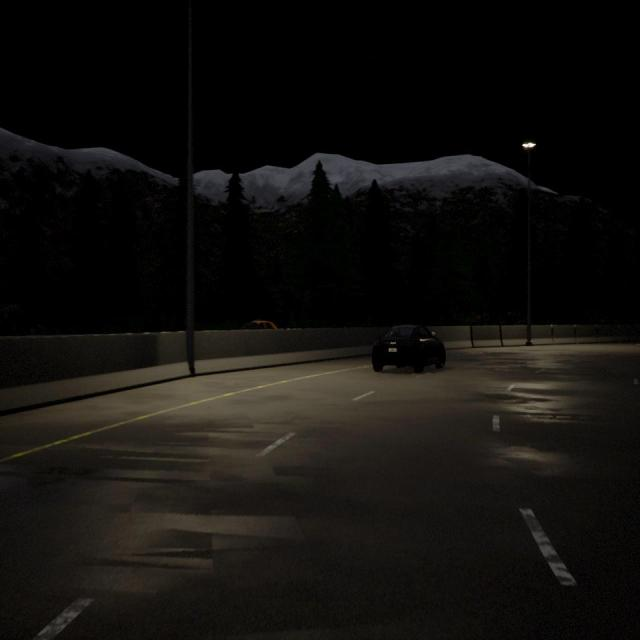Vehicle: (372, 324, 446, 374), (244, 320, 278, 329)
